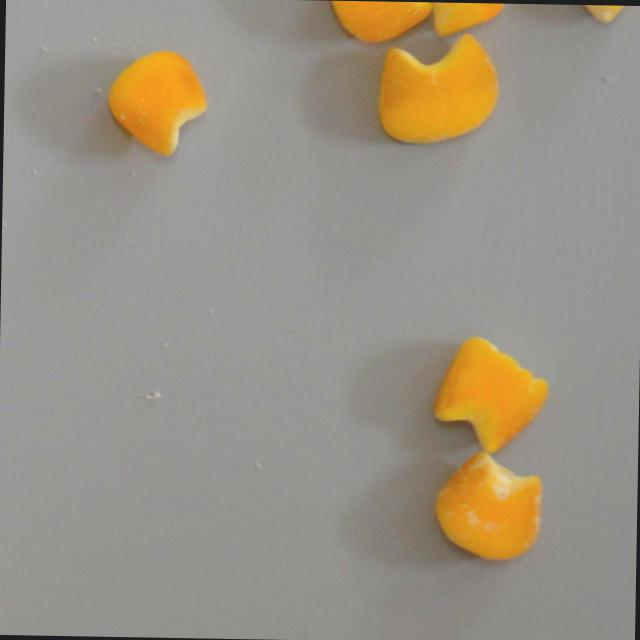dañado: (427, 329, 554, 457), (375, 27, 503, 148), (102, 42, 213, 163), (528, 4, 640, 29)
no_desgerminado: (414, 2, 510, 39)
pelicula: (321, 0, 434, 44)
punto_negro: (428, 444, 547, 567)
